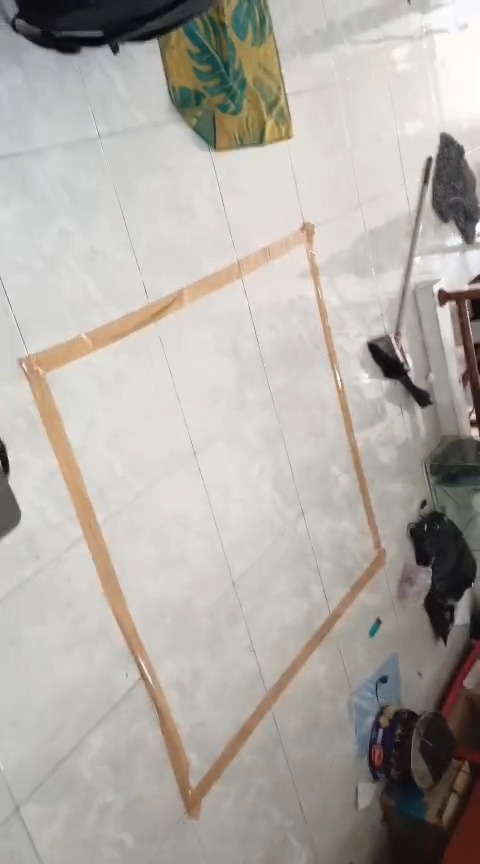floor marking: (20, 223, 384, 817)
